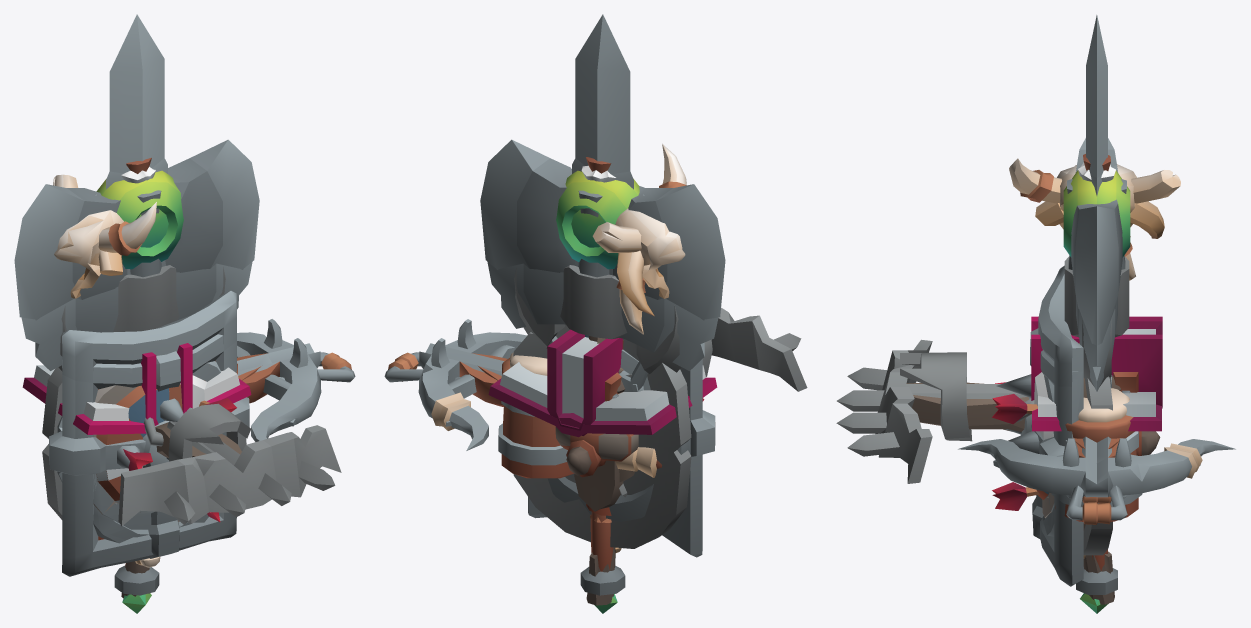
The model's file is weapons.glb.
3 views of the same model, side by side, from view 1: azimuth 30°, elevation 25°; view 2: azimuth 150°, elevation 25°; view 3: azimuth 270°, elevation 25° (orthographic).
Visible parts, largest first — view 1: 2H_Axe, Skeleton_Crossbow, Rectangle_Shield, Spike_Shield, 2H_Sword, 2H_Crossbow, 2H_Staff, Skeleton_Staff, 1H_Axe_Offhand, Skeleton_Axe, Spellbook_open, Round_Shield (+8 smaller); view 2: 2H_Axe, Skeleton_Shield_Large_B, 2H_Crossbow, 2H_Sword, Skeleton_Staff, 2H_Staff, Spellbook_open, Skeleton_Axe, Spellbook, Skeleton_Crossbow, Mug, Skeleton_Shield_Large_A (+7 smaller); view 3: Skeleton_Crossbow, 2H_Crossbow, 2H_Axe, Skeleton_Staff, Rectangle_Shield, Spellbook, 2H_Staff, Spike_Shield, 2H_Sword, Mug, Spellbook_open, Skeleton_Axe (+6 smaller).
Part boxes in pixels (x1=…): 2H_Axe: x1=14, y1=139, x2=259, y2=320; Skeleton_Crossbow: x1=118, y1=403, x2=341, y2=526; Rectangle_Shield: x1=62, y1=290, x2=236, y2=576; Spike_Shield: x1=49, y1=334, x2=249, y2=558; 2H_Sword: x1=109, y1=14, x2=164, y2=173; 2H_Crossbow: x1=237, y1=319, x2=355, y2=441; 2H_Staff: x1=95, y1=170, x2=183, y2=613; Skeleton_Staff: x1=53, y1=174, x2=160, y2=598; 1H_Axe_Offhand: x1=21, y1=269, x2=130, y2=370; Skeleton_Axe: x1=58, y1=265, x2=225, y2=371; Spellbook_open: x1=22, y1=365, x2=251, y2=434; Round_Shield: x1=93, y1=361, x2=220, y2=529; 2H_Axe: x1=480, y1=139, x2=725, y2=515; Skeleton_Shield_Large_B: x1=522, y1=324, x2=691, y2=546; 2H_Crossbow: x1=384, y1=319, x2=661, y2=477; 2H_Sword: x1=548, y1=14, x2=647, y2=391; Skeleton_Staff: x1=586, y1=144, x2=686, y2=605; 2H_Staff: x1=556, y1=170, x2=644, y2=613; Spellbook_open: x1=488, y1=362, x2=717, y2=437; Skeleton_Axe: x1=514, y1=265, x2=681, y2=373; Spellbook: x1=547, y1=329, x2=622, y2=435; Skeleton_Crossbow: x1=566, y1=307, x2=807, y2=477; Mug: x1=498, y1=352, x2=573, y2=478; Skeleton_Shield_Large_A: x1=513, y1=333, x2=688, y2=548; Skeleton_Crossbow: x1=836, y1=339, x2=1160, y2=483; 2H_Crossbow: x1=958, y1=436, x2=1235, y2=524; 2H_Axe: x1=1067, y1=138, x2=1126, y2=345; Skeleton_Staff: x1=1009, y1=158, x2=1180, y2=604; Rectangle_Shield: x1=1038, y1=265, x2=1083, y2=586; Spellbook: x1=1031, y1=316, x2=1162, y2=408; 2H_Staff: x1=1063, y1=170, x2=1130, y2=613; Spike_Shield: x1=996, y1=328, x2=1082, y2=538; 2H_Sword: x1=1086, y1=15, x2=1112, y2=388; Mug: x1=1051, y1=388, x2=1142, y2=521; Spellbook_open: x1=1032, y1=392, x2=1161, y2=431; Skeleton_Axe: x1=1064, y1=256, x2=1129, y2=386.
Size of the model in its own units: 1.68 by 2.9 by 1.75.
5 materials, 5 textured.
